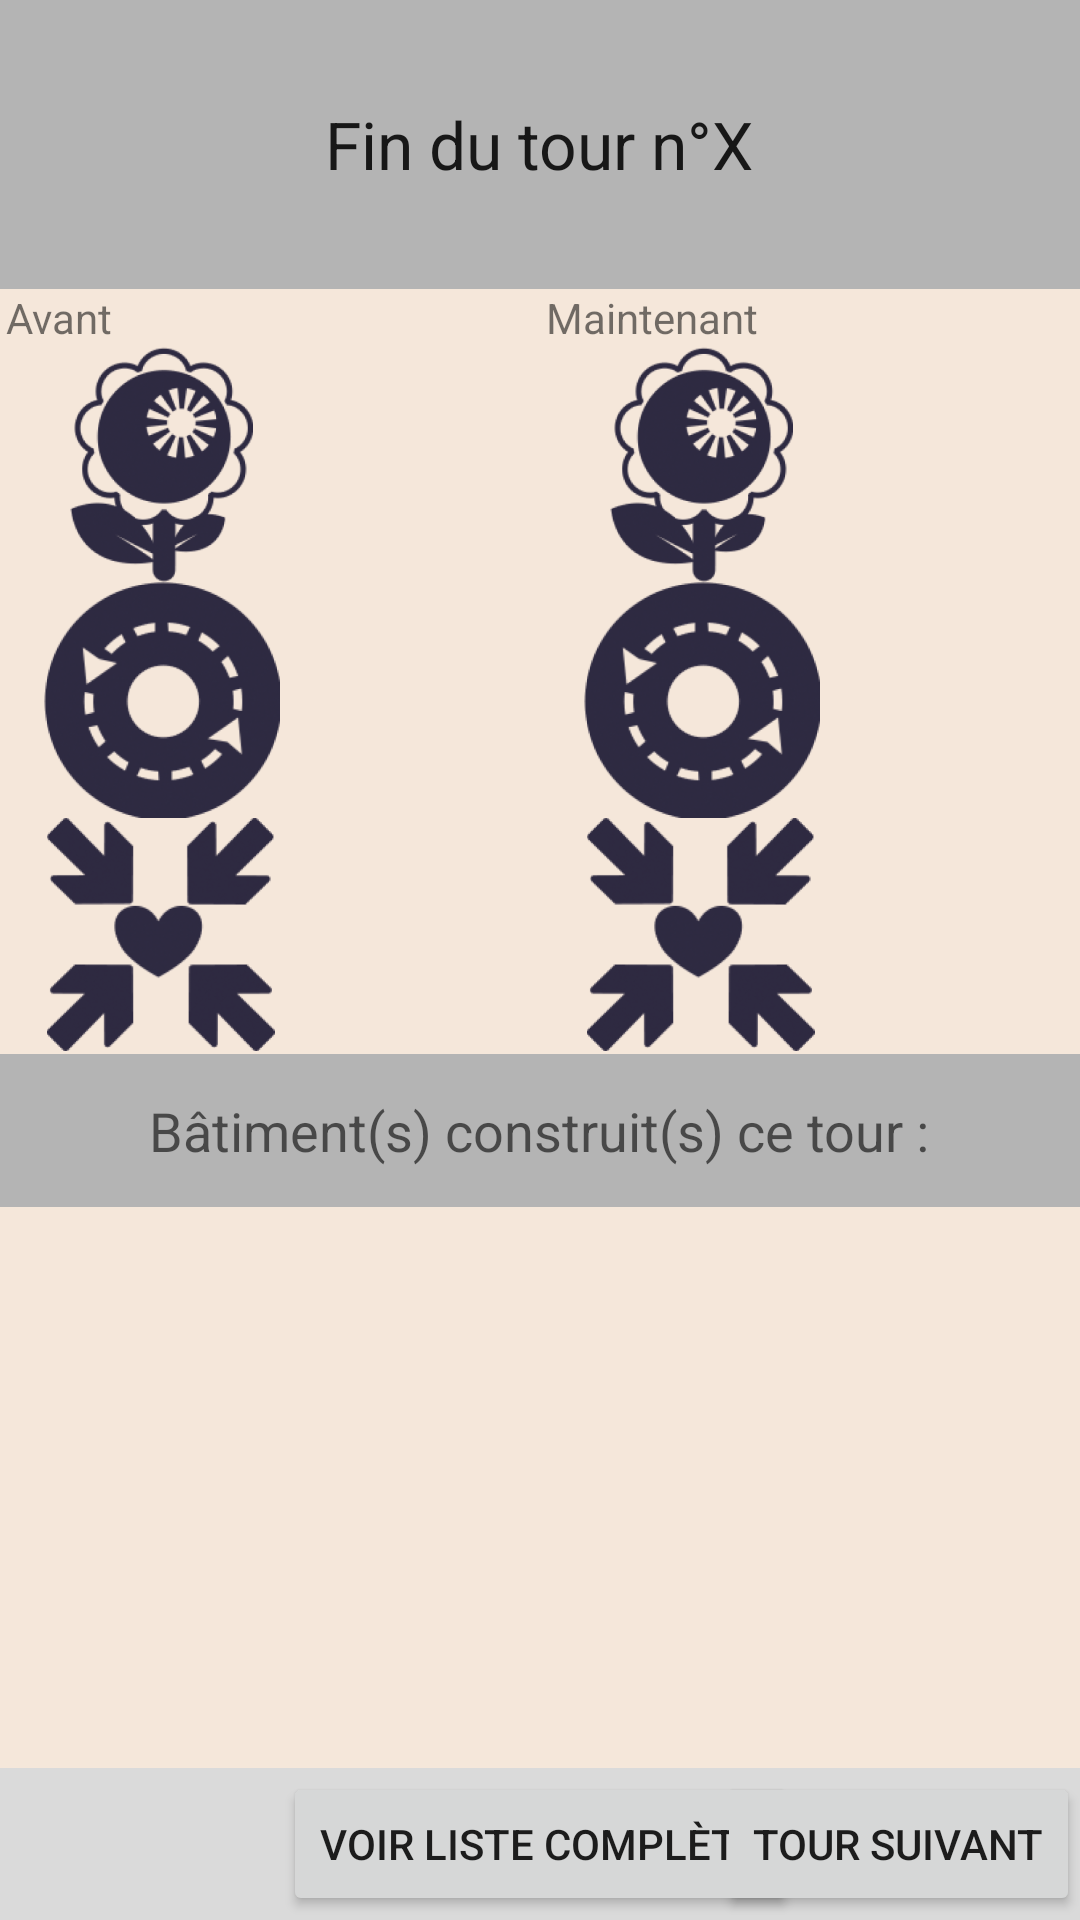

Icon click points for this 1080px×1920px phone screenshot, format point (x, y):
environment city: point (163, 436), point (703, 436)
fluid city: point (162, 700), point (702, 700)
impact on city: point (161, 934), point (701, 934)
